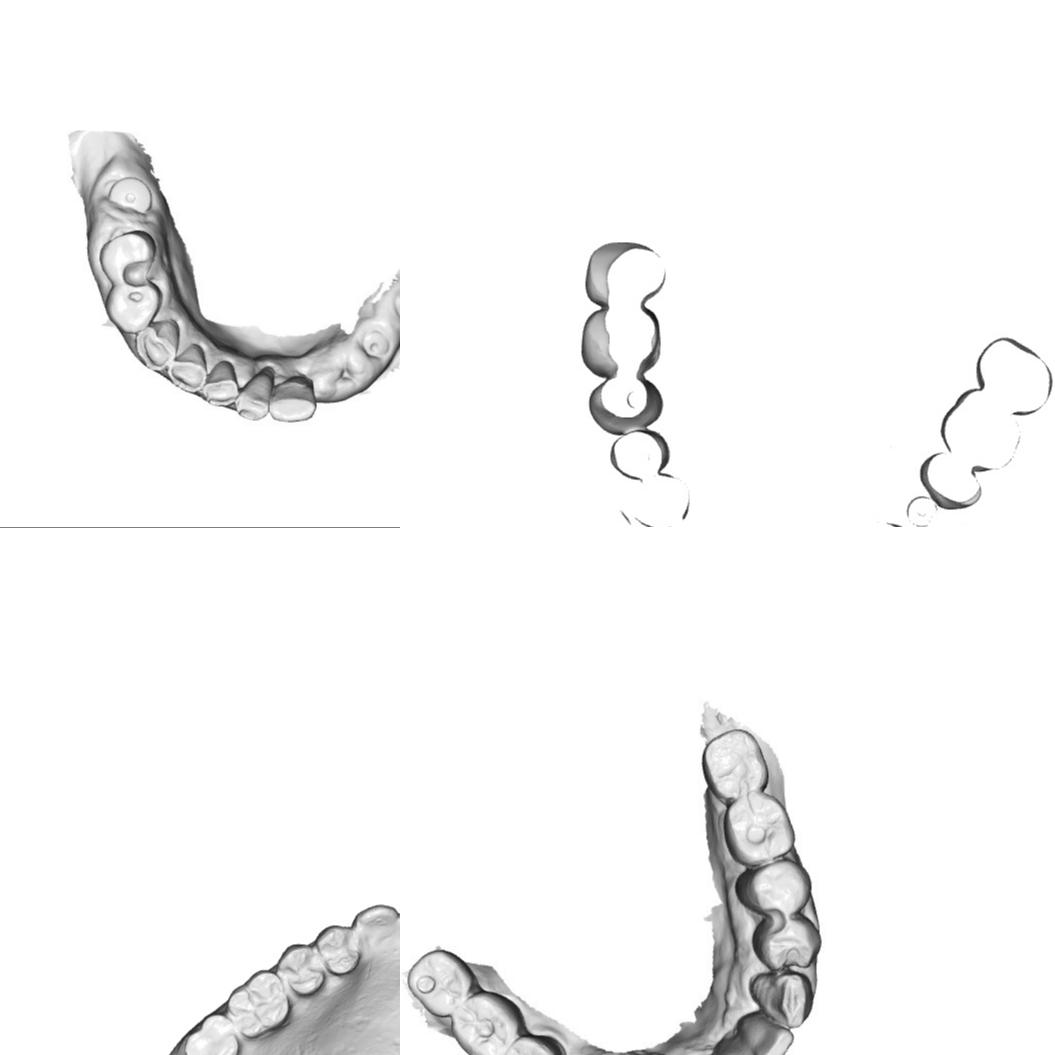canine: (739, 962, 825, 1030), (353, 903, 399, 939)
implant: (106, 173, 156, 221), (361, 326, 392, 361), (388, 291, 400, 320)
incisor: (135, 321, 181, 373), (742, 1010, 790, 1055), (272, 372, 315, 421), (202, 361, 239, 404), (240, 369, 272, 417), (172, 344, 204, 388), (718, 1041, 765, 1055)
molar: (719, 791, 792, 865), (449, 987, 522, 1055), (403, 949, 470, 1023), (225, 967, 291, 1039), (698, 728, 763, 798), (182, 1015, 241, 1055)
premolar: (751, 863, 812, 913), (108, 280, 164, 332), (763, 917, 821, 966), (102, 232, 156, 282), (279, 942, 324, 997), (315, 921, 359, 975), (492, 1028, 567, 1055)
